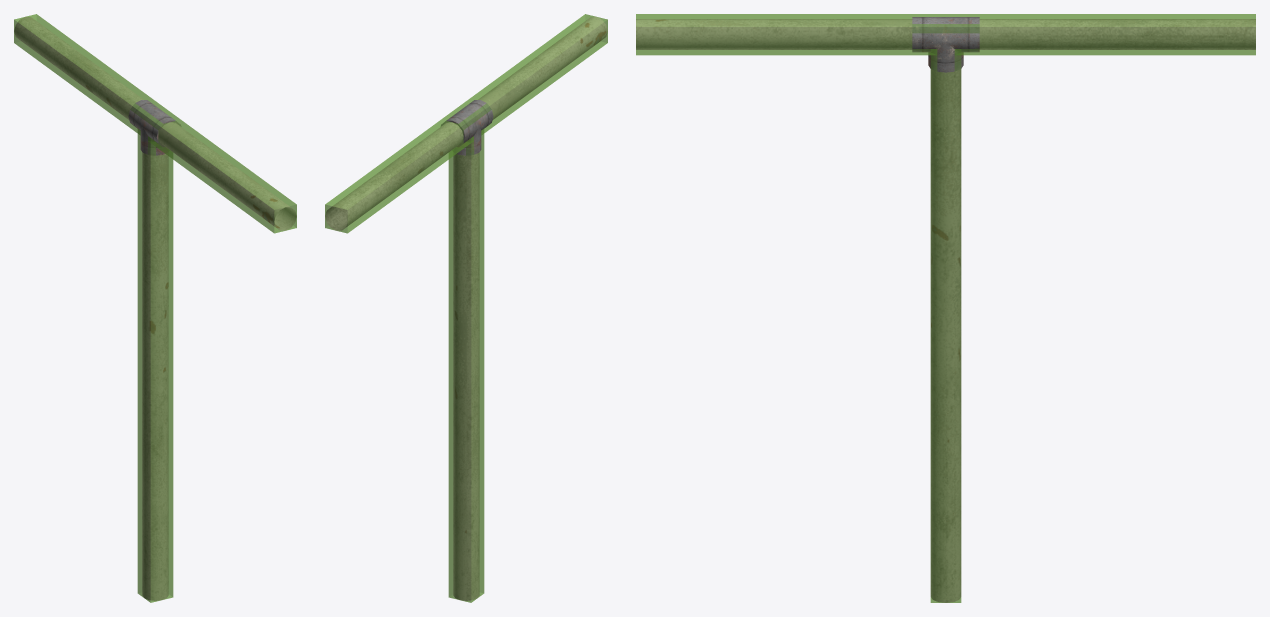
File: p_PipeTJunction_01_a.fbx
The picture shows the model from 3 angles, left to right: view 1: azimuth 30°, elevation 25°; view 2: azimuth 150°, elevation 25°; view 3: azimuth 270°, elevation 25°; orthographic projection. The views are drawn at different scales.
Visible parts, largest first — view 1: p_PipeTJunction_01_a_LOD0, p_PipeTJunction_01_a_col_01, p_PipeTJunction_01_a_col_02; view 2: p_PipeTJunction_01_a_LOD0, p_PipeTJunction_01_a_col_01, p_PipeTJunction_01_a_col_02; view 3: p_PipeTJunction_01_a_LOD0, p_PipeTJunction_01_a_col_02, p_PipeTJunction_01_a_col_01.
Part boxes in pixels (bbox=[...]): p_PipeTJunction_01_a_LOD0: bbox=[14, 16, 296, 600]; p_PipeTJunction_01_a_col_01: bbox=[137, 129, 173, 602]; p_PipeTJunction_01_a_col_02: bbox=[14, 14, 296, 233]; p_PipeTJunction_01_a_LOD0: bbox=[325, 16, 607, 600]; p_PipeTJunction_01_a_col_01: bbox=[448, 129, 484, 602]; p_PipeTJunction_01_a_col_02: bbox=[325, 14, 607, 233]; p_PipeTJunction_01_a_LOD0: bbox=[636, 17, 1255, 602]; p_PipeTJunction_01_a_col_02: bbox=[636, 14, 1255, 55]; p_PipeTJunction_01_a_col_01: bbox=[930, 49, 961, 602].
Size of what is drawn, in the model's own units: 2.87 by 51.43 by 50.
